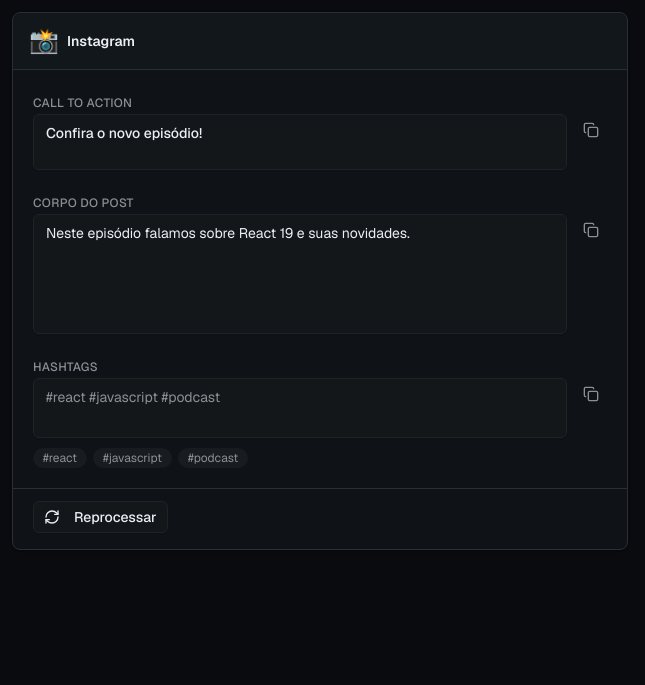
SocialPostColumn › shows additionalContext form when Reprocessar clicked
Click the button "Reprocessar". click: [100, 517]
box: [33,501,168,533]
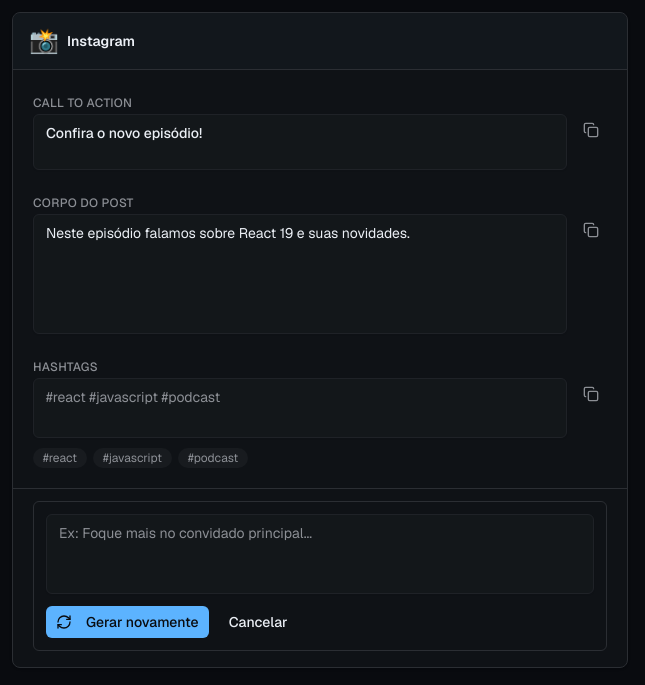
Now the text box with placeholder "Ex: Foque mais no convidado principal..." is shown, box [46,514,594,594]
Now the button "Gerar novamente" is shown, box [46,606,209,638]
Now the button "Cancelar" is shown, box [217,606,300,638]
